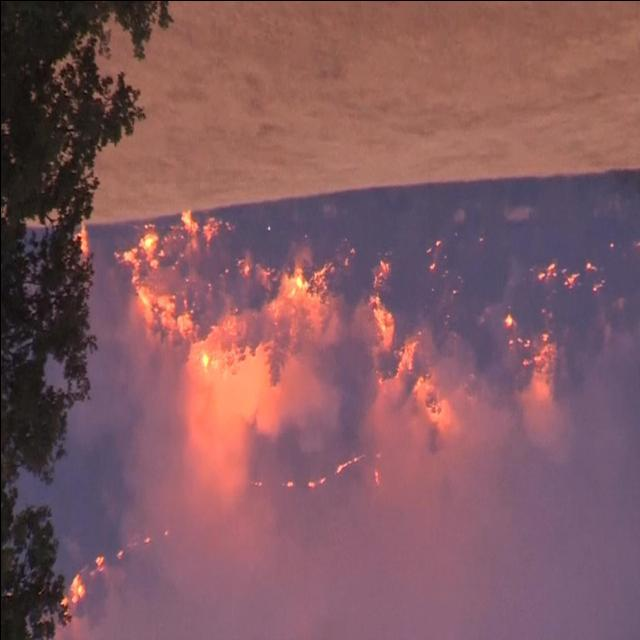Fire: (369, 236, 562, 445), (120, 216, 322, 396)
